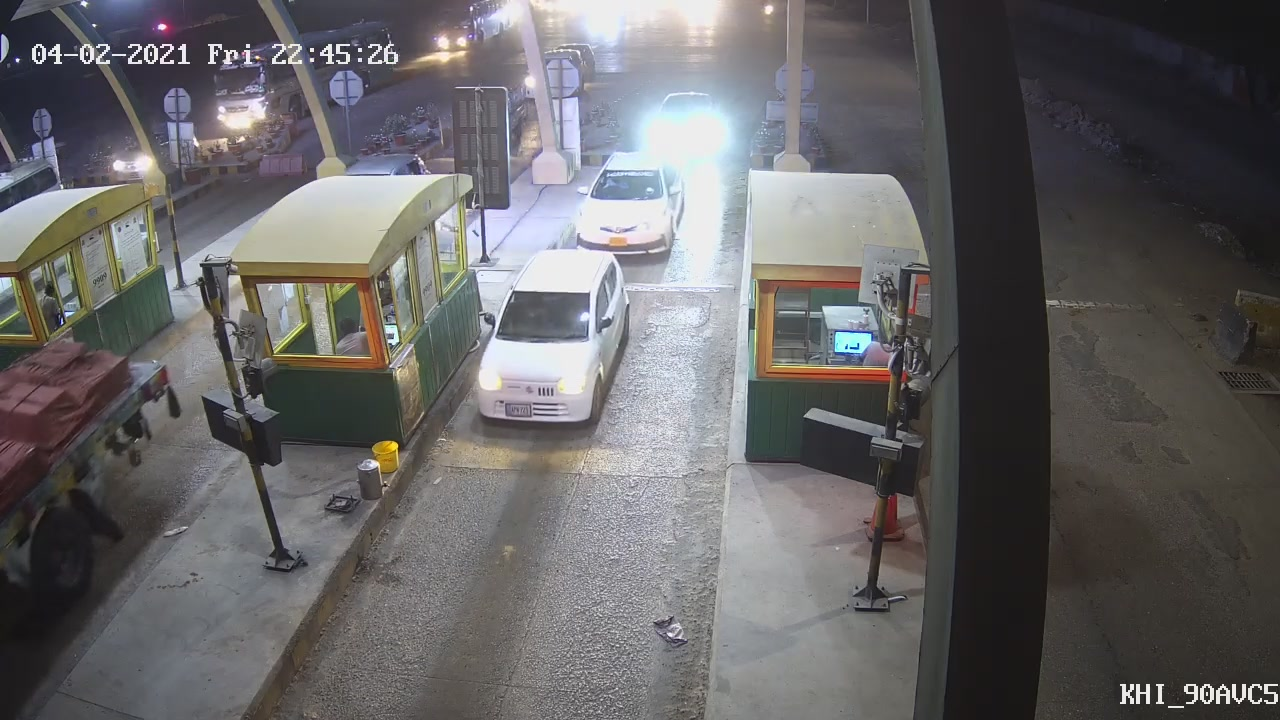F1: (470, 249, 638, 434)
